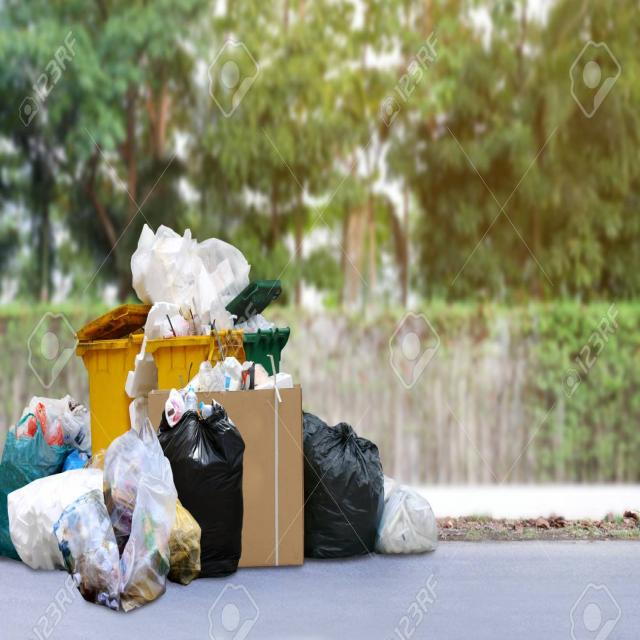plastic_bag: (2, 476, 113, 606), (133, 228, 262, 336), (165, 414, 245, 575), (309, 424, 391, 560), (380, 496, 456, 570)
